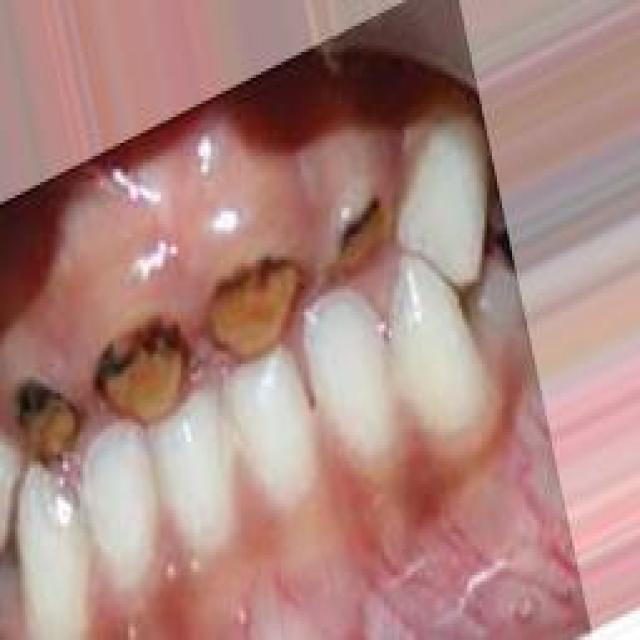caries: (195, 236, 314, 364), (84, 310, 199, 426), (0, 363, 84, 470), (315, 176, 400, 280)
